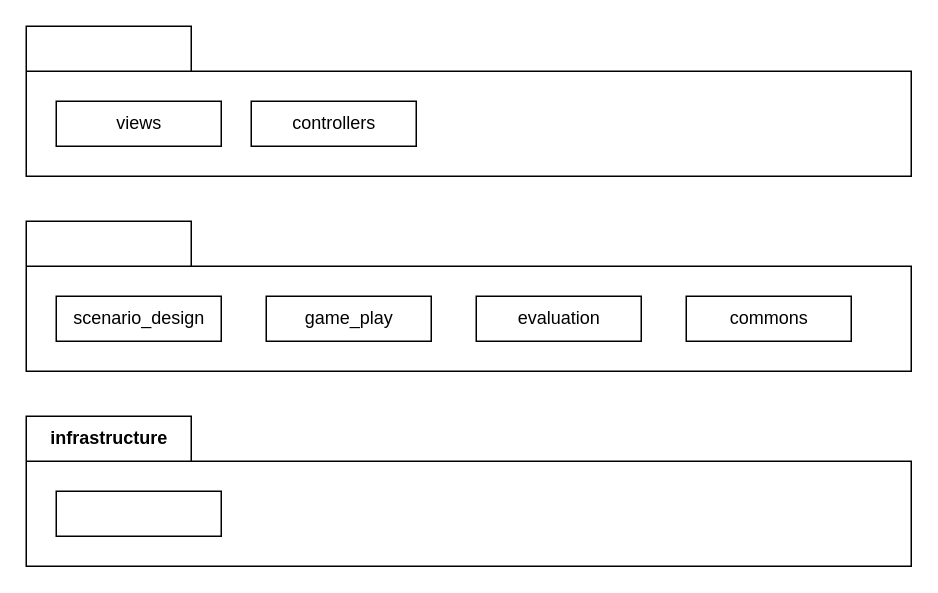
Image size: 938x593. Some labels were removed from this diagram. The shapes that lost their labels are listed below. From the top down, each one's box as (x1, y1, x2, y2) in pixels, then its label:
(25, 25, 911, 176): presentation
(25, 220, 911, 371): model
(55, 490, 221, 536): database
